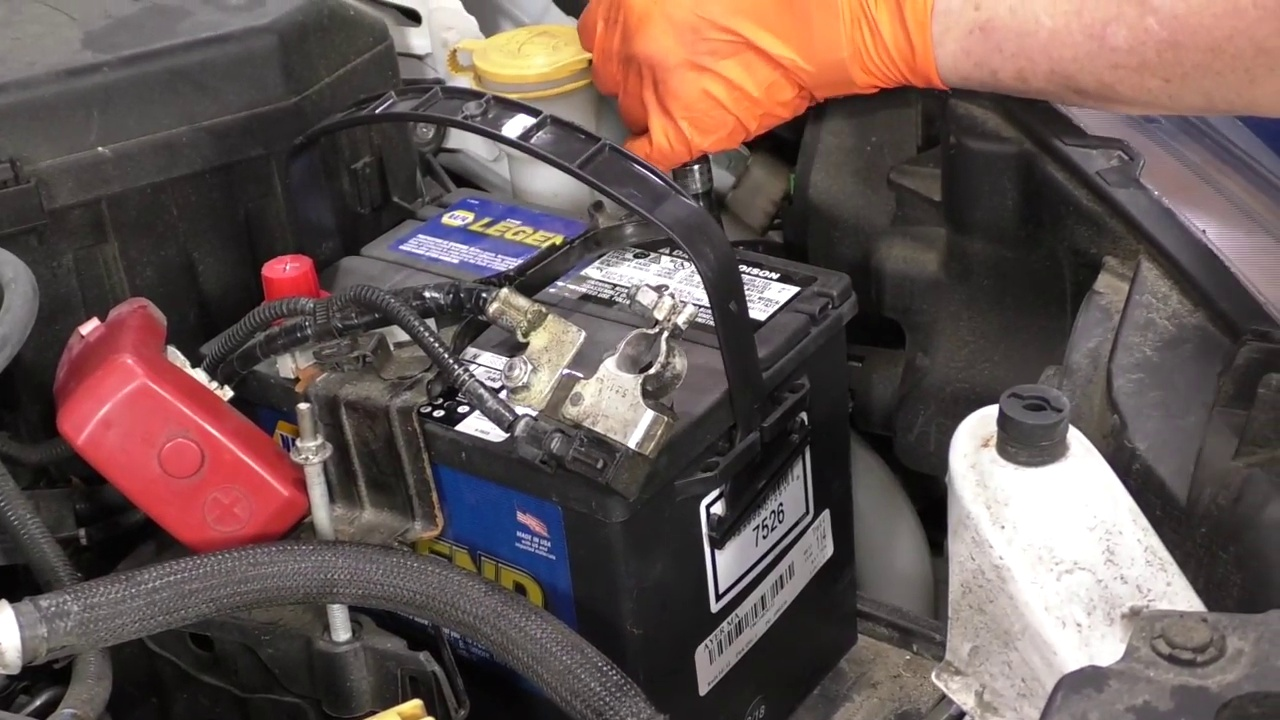battery: (205, 188, 844, 486)
